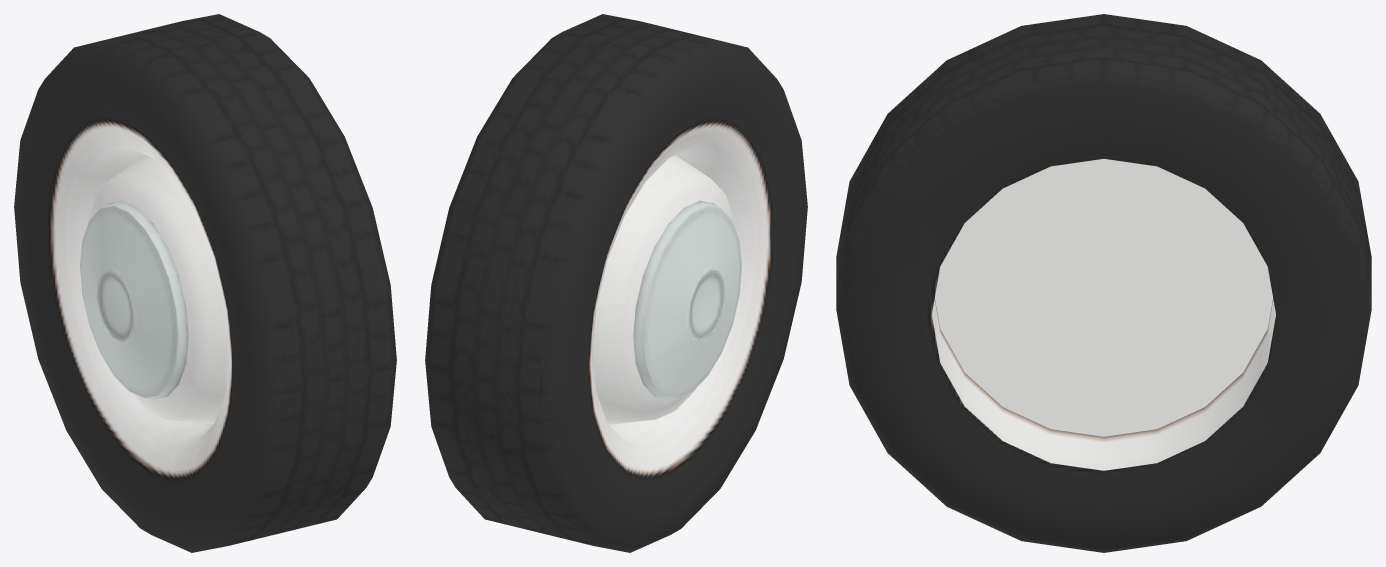
The model's file is wheel_right_white.glb.
3 views of the same model, side by side, from view 1: azimuth 30°, elevation 25°; view 2: azimuth 150°, elevation 25°; view 3: azimuth 270°, elevation 25° (orthographic).
Parts seen in each view (by area): view 1: wheel_right; view 2: wheel_right; view 3: wheel_right.
Boxes of the visible parts, x1,y1,x2,y2 form: wheel_right: [14, 14, 396, 552]; wheel_right: [425, 14, 807, 552]; wheel_right: [836, 14, 1371, 552].
Size of the model in its own units: 0.2019 by 0.5664 by 0.5664.
1 material, 1 textured.
